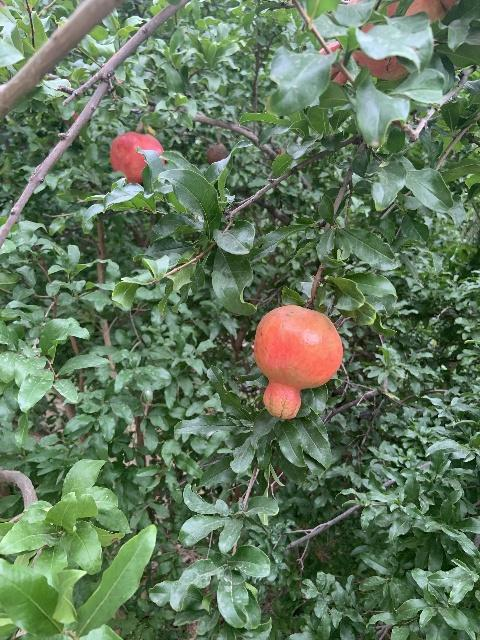ripe: (318, 0, 459, 84), (253, 304, 343, 419), (110, 131, 165, 184)
